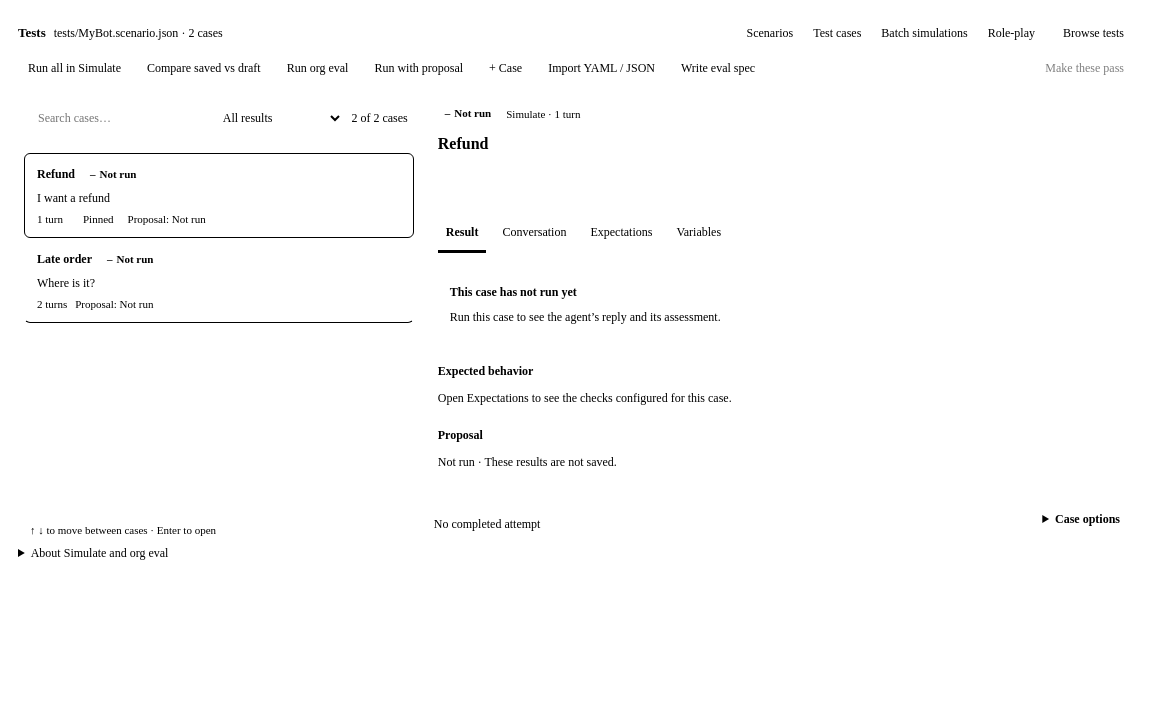
Test: reports a failed proposal run
Click the button "Run with proposal": (419, 68) [364,58,473,79]
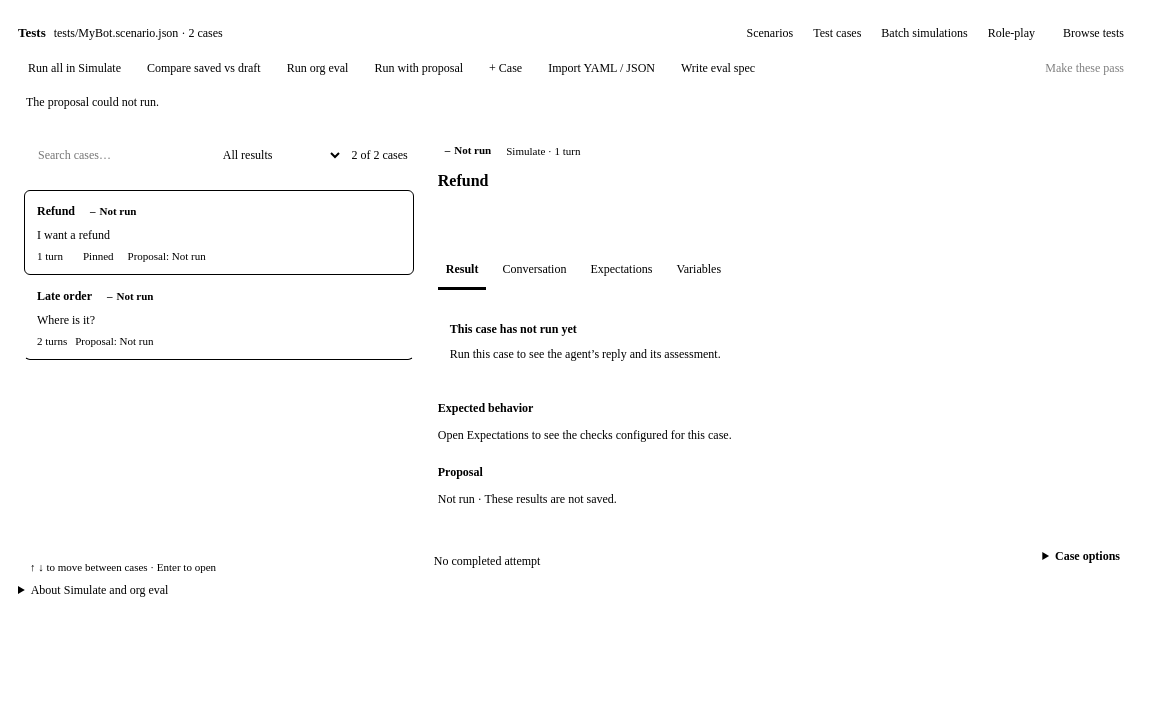
Expected: the text "The proposal could not run." is shown, [26,95,159,110]
